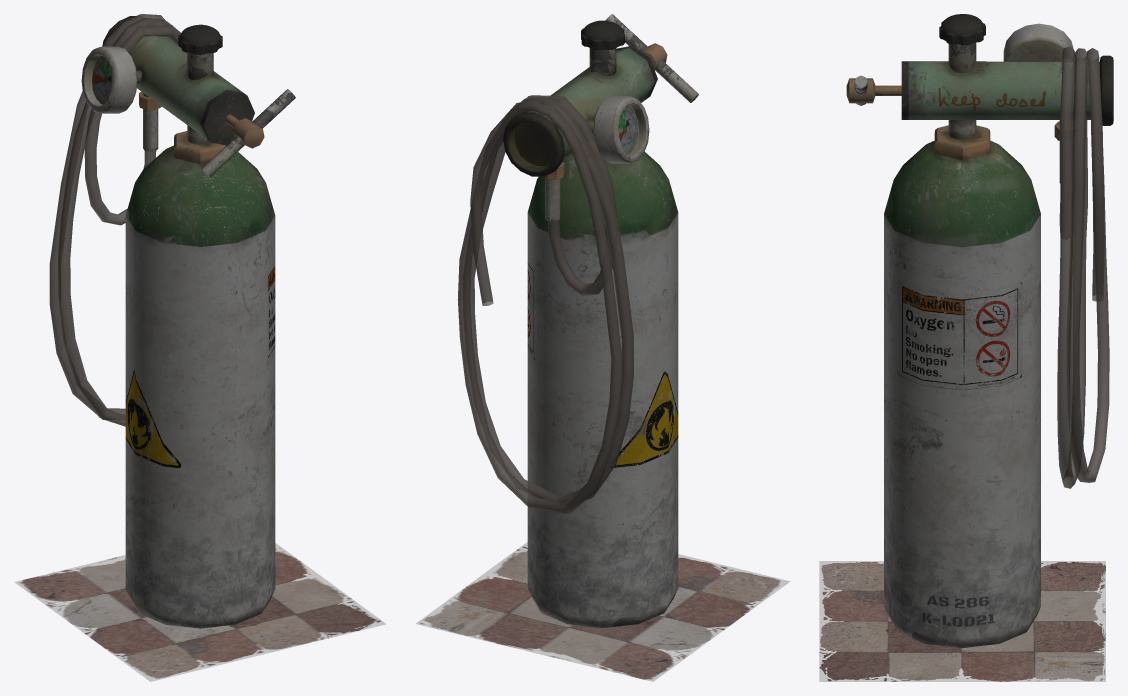
File: oxygen_tank.glb
3 views of the same model, side by side, from view 1: azimuth 30°, elevation 25°; view 2: azimuth 150°, elevation 25°; view 3: azimuth 270°, elevation 25° (orthographic). The views are drawn at different scales.
Visible parts, largest first — view 1: Object_4, Object_2, Object_3; view 2: Object_4, Object_3, Object_2; view 3: Object_4, Object_2, Object_3.
Part boxes in pixels (x1,y1,x2,y2): Object_4: [81, 16, 295, 628]; Object_2: [14, 543, 386, 681]; Object_3: [49, 14, 181, 426]; Object_4: [503, 14, 698, 628]; Object_3: [457, 95, 633, 513]; Object_2: [415, 542, 790, 681]; Object_4: [846, 14, 1113, 647]; Object_2: [819, 561, 1105, 681]; Object_3: [1057, 46, 1109, 488].
Bounding box in the file's own units: 30 × 69.75 × 30.83.
Materials: 3 (2 with a texture image).
